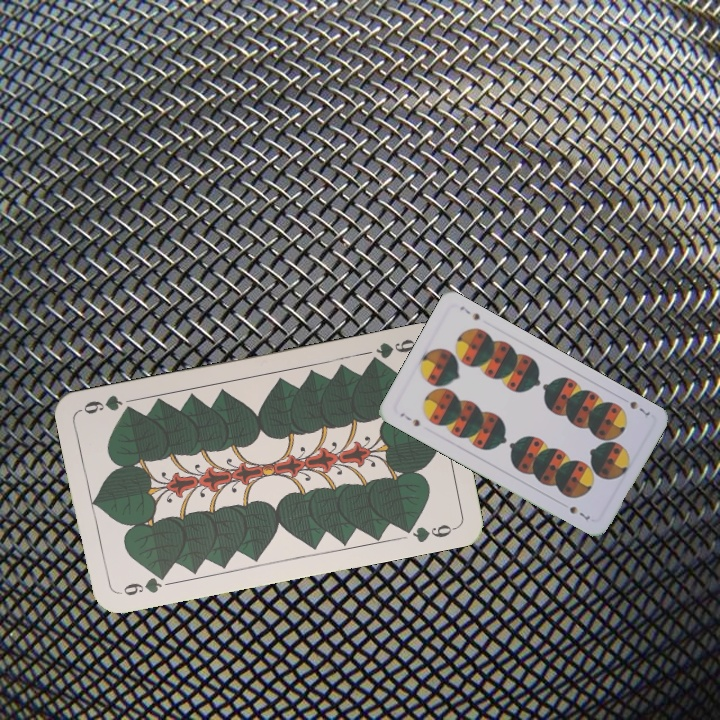G9: (365, 335, 421, 367), (114, 569, 170, 598)
S7: (626, 397, 653, 421), (396, 409, 422, 429)
